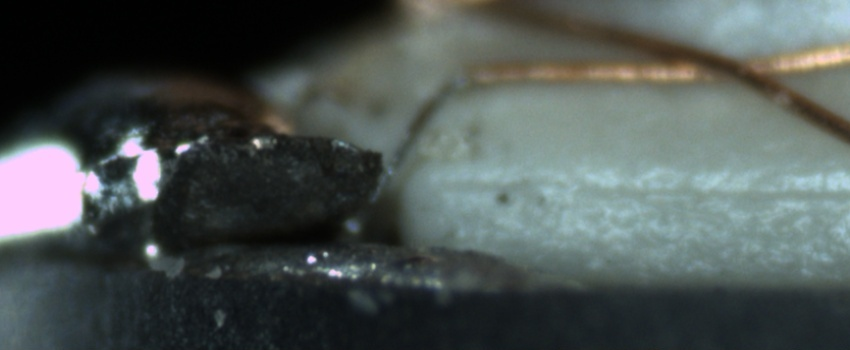DL: (436, 160, 850, 216)
TS: (345, 70, 465, 242)
TTCW: (347, 48, 517, 236)
